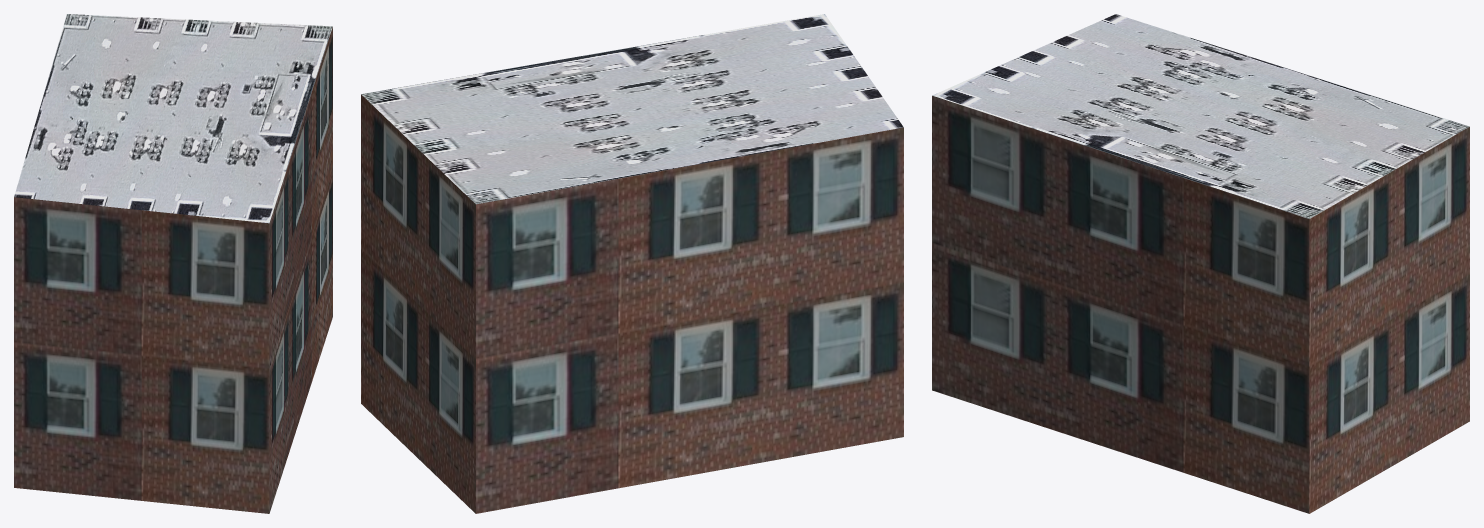
The model's file is ResTex__497.fbx.
3 views of the same model, side by side, from view 1: azimuth 30°, elevation 25°; view 2: azimuth 150°, elevation 25°; view 3: azimuth 270°, elevation 25° (orthographic). The views are drawn at different scales.
Parts seen in each view (by area): view 1: CityEngineMaterial_14_m, CityEngineMaterial_4_m; view 2: CityEngineMaterial_14_m, CityEngineMaterial_4_m; view 3: CityEngineMaterial_14_m, CityEngineMaterial_4_m.
Boxes of the visible parts, x1,y1,x2,y2 form: CityEngineMaterial_14_m: (14, 27, 332, 513); CityEngineMaterial_4_m: (14, 14, 332, 223); CityEngineMaterial_14_m: (361, 94, 903, 513); CityEngineMaterial_4_m: (361, 14, 903, 204); CityEngineMaterial_14_m: (932, 95, 1469, 513); CityEngineMaterial_4_m: (932, 14, 1469, 218).
Bounding box in the file's own units: 8.95 × 6 × 9.92.
2 materials, 2 textured.
